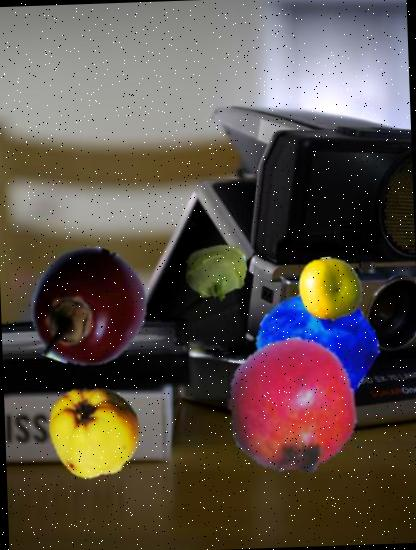Huckleberry: (256, 285, 376, 406)
Kohlrabi: (184, 242, 249, 306)
Pomegranate: (221, 336, 362, 476)
Pomelo: (298, 256, 364, 323)
Quince: (47, 383, 144, 480)
Tamarillo: (26, 245, 151, 370)
